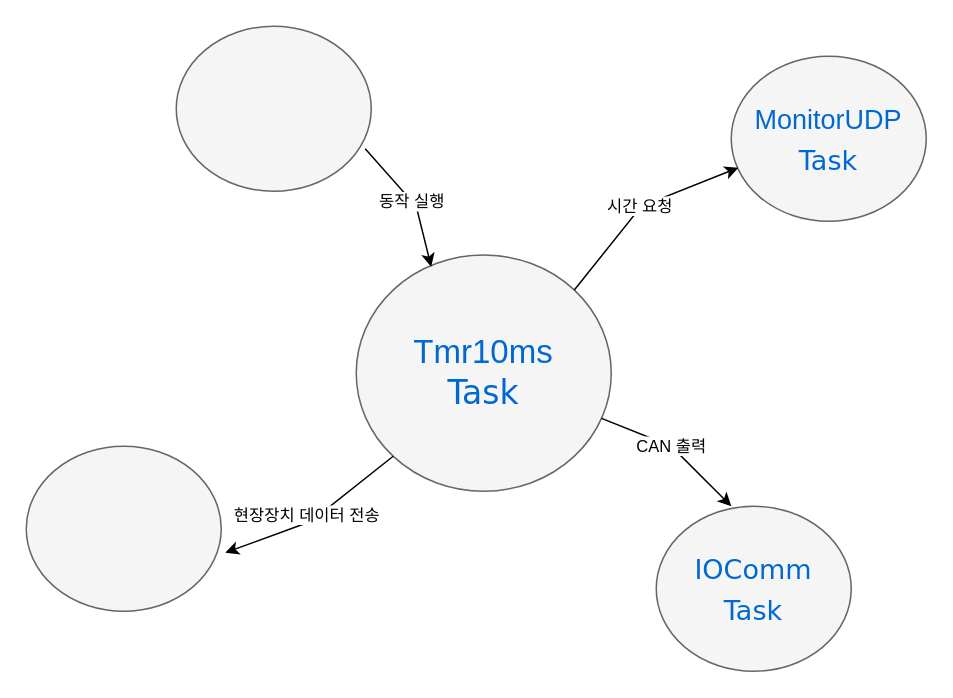
Some shapes in this 953 by 698 pixel diagram are drawn without their labels. Each missing label, with the centre of its shape:
"Field UDP Task" goes at point 123,528.
"udp1123 Task" goes at point 273,108.
